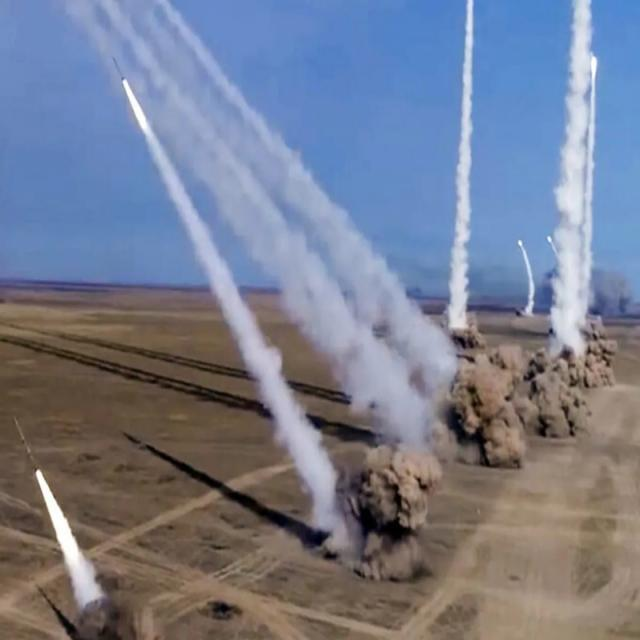missile: (9, 406, 43, 482), (108, 51, 132, 86)
